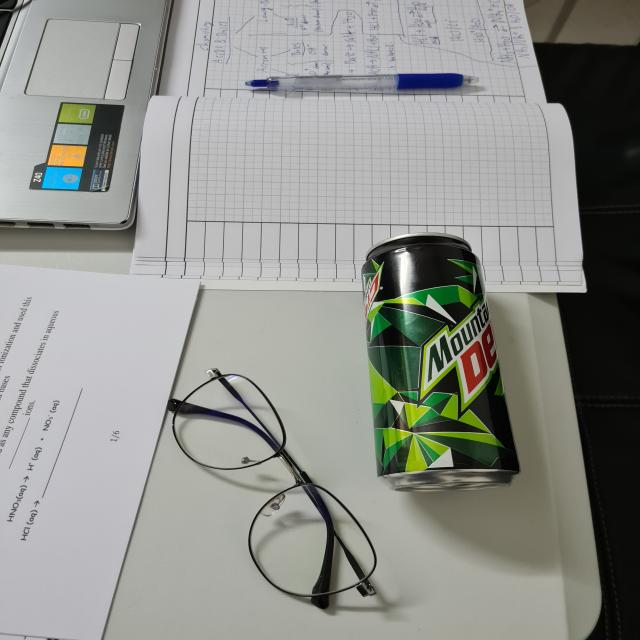non-organic waste: (361, 229, 529, 492)
